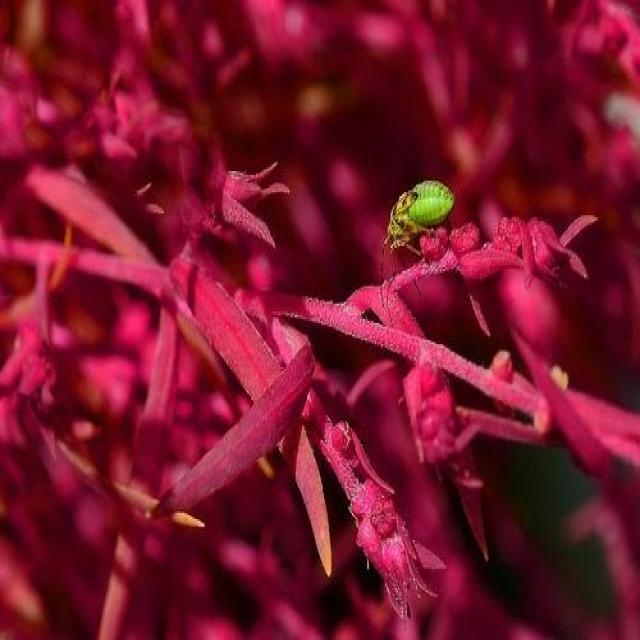aphid: (386, 175, 460, 257)
